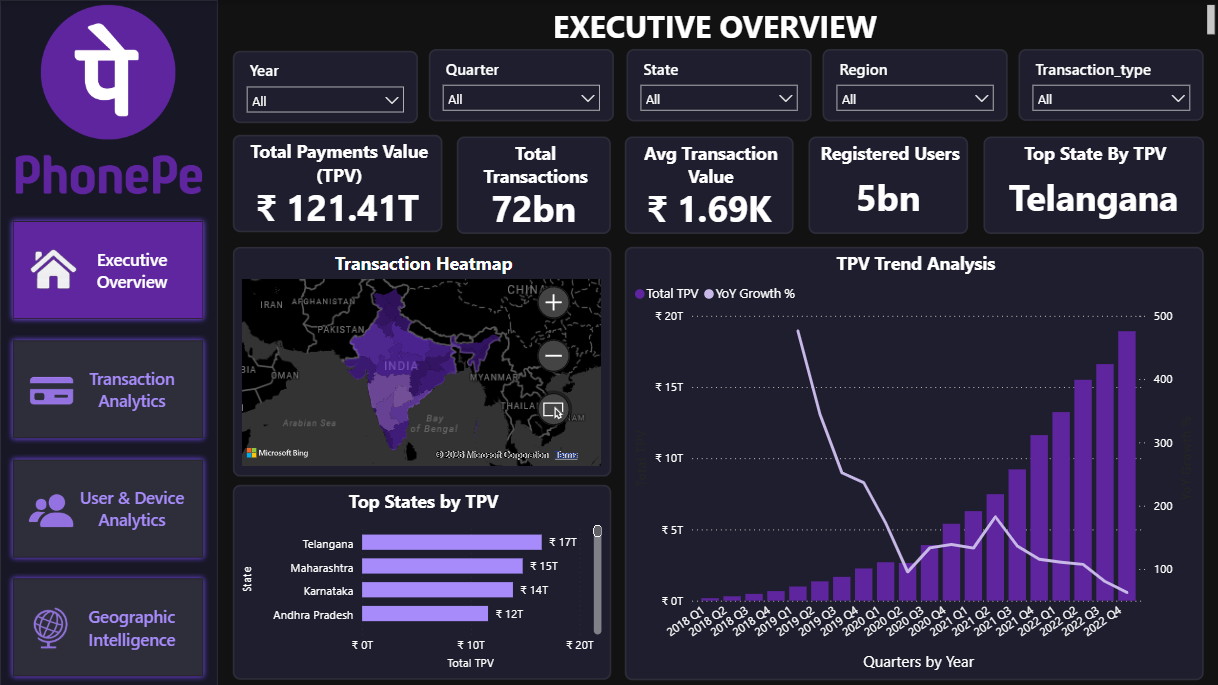

What the dashboard file says about the page in this screenshot:
{"tool":"powerbi","page":{"name":"Executive Overview","canvas":[1280,720],"ordinal":0},"visuals":[{"type":"shape","box":[0,0,228.6,720.4],"z":0},{"type":"pageNavigator","box":[8.2,226.1,212.2,493.9],"z":500},{"type":"image","box":[34.7,0,157.1,151],"z":1000},{"type":"image","box":[0,132.7,228.6,89.8],"z":2000},{"type":"textbox","box":[228,0,1052,46],"z":3000},{"type":"image","box":[21.2,248.8,67.5,69.4],"z":3250},{"type":"card","title":"Total Payments Value (TPV)","fields":{"Values":["agg_trans.Total TPV"]},"box":[244.3,142.1,220,102.1],"z":5000},{"type":"card","title":"Total Transactions","fields":{"Values":["agg_trans.Total Transactions"]},"box":[479.3,142.4,161.9,102.2],"z":6000},{"type":"card","title":"Avg Transaction Value","fields":{"Values":["agg_trans.Average Transaction Value"]},"box":[656.2,142.4,177.3,102.2],"z":7000},{"type":"card","title":"Registered Users","fields":{"Values":["map_user_updated.Registered Users"]},"box":[848.6,142.4,167.7,102.2],"z":8000},{"type":"card","title":"Top State By TPV","fields":{"Values":["agg_trans.Top State"]},"box":[1031.3,142.4,231.3,102.2],"z":9000},{"type":"filledMap","title":"Transaction Heatmap","fields":{"Category":["agg_trans.State"]},"box":[244.8,258.3,397.1,241],"z":10000},{"type":"barChart","title":"Top States by TPV","fields":{"Category":["agg_trans.State"],"Y":["agg_trans.Total TPV"]},"box":[244.8,508.9,397.1,204.3],"z":11000},{"type":"lineStackedColumnComboChart","title":"TPV Trend Analysis","fields":{"Y":["agg_trans.Total TPV"],"Y2":["agg_trans.YoY Growth %"],"Category":["Dim_Date.Quarter Label"]},"box":[655.4,258.3,607.2,454.9],"z":12000},{"type":"slicer","title":"Year","fields":{"Values":["Dim_Date.Year"]},"box":[244.1,52.6,194,76],"z":13000},{"type":"slicer","title":"Year","fields":{"Values":["Dim_Date.Quarter"]},"box":[450.3,52.2,194,76],"z":14000},{"type":"slicer","title":"Year","fields":{"Values":["Dim_State.State"]},"box":[656.6,52.2,194,76],"z":15000},{"type":"slicer","title":"Year","fields":{"Values":["Dim_State.Region"]},"box":[862.8,52.2,194,76],"z":16000},{"type":"slicer","title":"Year","fields":{"Values":["agg_trans.Transaction_type"]},"box":[1067.8,52.2,194.4,75.6],"z":18000},{"type":"image","box":[22.3,377.7,63.1,63.1],"z":19000},{"type":"image","box":[22.3,503.1,63.1,63.8],"z":20000},{"type":"image","box":[22.3,627.7,63.1,62.3],"z":21000}]}

Visuals, with their boxes in screenshot pixels (x1, y1, x2, y2), scaled from the page's 1280x720 canvas onto the 1218x685 screenshot:
shape: <bbox>0, 0, 218, 684</bbox>
pageNavigator: <bbox>8, 215, 210, 684</bbox>
image: <bbox>33, 0, 183, 144</bbox>
image: <bbox>0, 126, 218, 212</bbox>
textbox: <bbox>217, 0, 1217, 44</bbox>
image: <bbox>20, 237, 84, 303</bbox>
"Total Payments Value (TPV)" card: <bbox>232, 135, 442, 232</bbox>
"Total Transactions" card: <bbox>456, 135, 610, 233</bbox>
"Avg Transaction Value" card: <bbox>624, 135, 793, 233</bbox>
"Registered Users" card: <bbox>807, 135, 967, 233</bbox>
"Top State By TPV" card: <bbox>981, 135, 1201, 233</bbox>
"Transaction Heatmap" filledMap: <bbox>233, 246, 611, 475</bbox>
"Top States by TPV" barChart: <bbox>233, 484, 611, 679</bbox>
"TPV Trend Analysis" lineStackedColumnComboChart: <bbox>624, 246, 1201, 679</bbox>
"Year" slicer: <bbox>232, 50, 417, 122</bbox>
"Year" slicer: <bbox>428, 50, 613, 122</bbox>
"Year" slicer: <bbox>625, 50, 809, 122</bbox>
"Year" slicer: <bbox>821, 50, 1006, 122</bbox>
"Year" slicer: <bbox>1016, 50, 1201, 122</bbox>
image: <bbox>21, 359, 81, 419</bbox>
image: <bbox>21, 479, 81, 539</bbox>
image: <bbox>21, 597, 81, 656</bbox>
